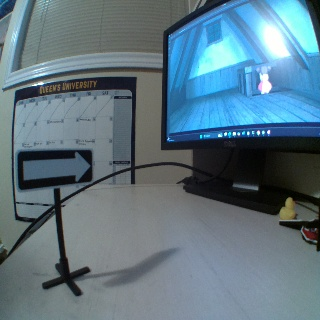sign_oneway_right: (14, 149, 93, 186)
